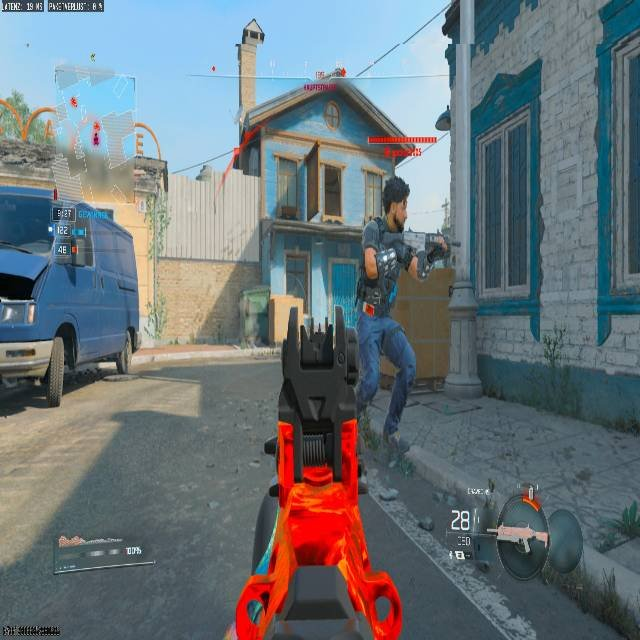head: (382, 176, 409, 227)
player: (354, 177, 451, 450)
